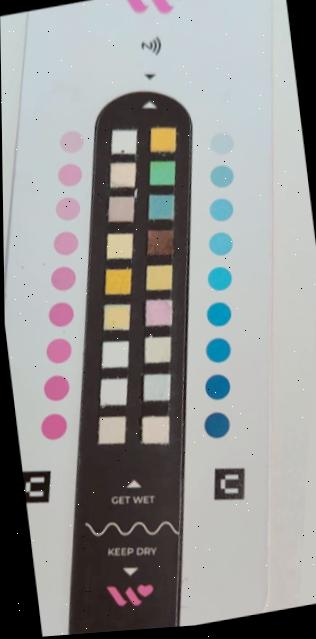black_strip: (59, 81, 211, 635)
circle: (200, 221, 244, 262), (197, 331, 244, 368), (198, 405, 239, 445), (198, 367, 238, 406), (199, 294, 238, 333), (202, 123, 244, 159), (202, 190, 242, 226), (52, 120, 90, 157), (38, 367, 75, 405), (37, 405, 73, 444), (44, 257, 81, 294), (39, 331, 77, 367), (49, 157, 88, 192), (48, 191, 87, 226), (202, 260, 240, 295), (206, 157, 242, 193), (43, 295, 78, 330), (48, 225, 85, 258)
markers: (141, 153, 244, 191), (137, 187, 240, 225), (134, 257, 237, 295), (136, 296, 239, 334), (136, 331, 239, 369), (134, 366, 237, 404), (141, 122, 243, 160), (138, 224, 240, 262), (131, 408, 233, 446), (50, 120, 146, 159), (47, 153, 143, 192), (48, 189, 145, 227), (37, 370, 134, 408), (42, 225, 138, 263), (42, 259, 138, 297), (41, 297, 137, 335), (38, 334, 134, 372), (36, 409, 132, 447)
square: (104, 126, 142, 156), (104, 158, 142, 188), (100, 230, 138, 260), (99, 265, 137, 295), (98, 301, 136, 331), (95, 376, 133, 406), (93, 414, 131, 444), (145, 123, 183, 153), (143, 157, 181, 187), (142, 191, 180, 221), (141, 226, 179, 256), (141, 262, 179, 292), (139, 297, 177, 327), (139, 334, 177, 364), (138, 372, 176, 402), (137, 414, 175, 444), (102, 193, 139, 223), (97, 338, 134, 368)
triangle: (101, 0, 195, 85)
